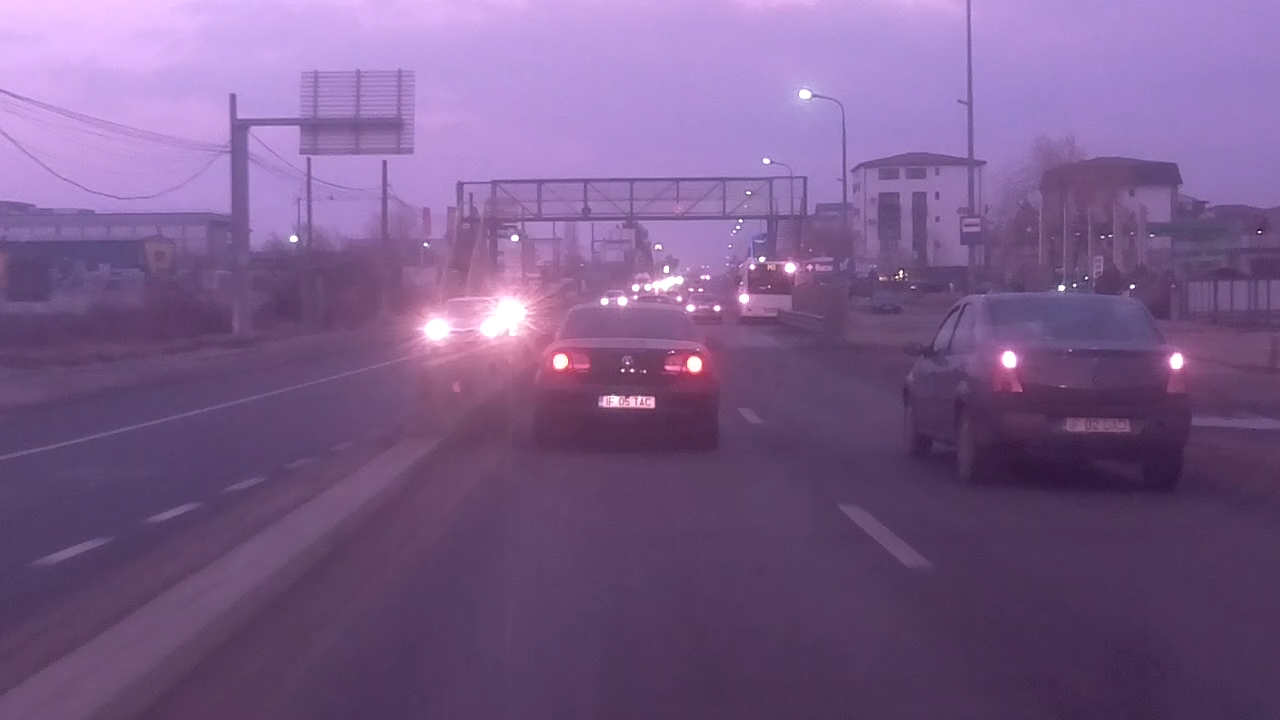license-plate: (1061, 412, 1132, 434), (597, 392, 657, 410)
